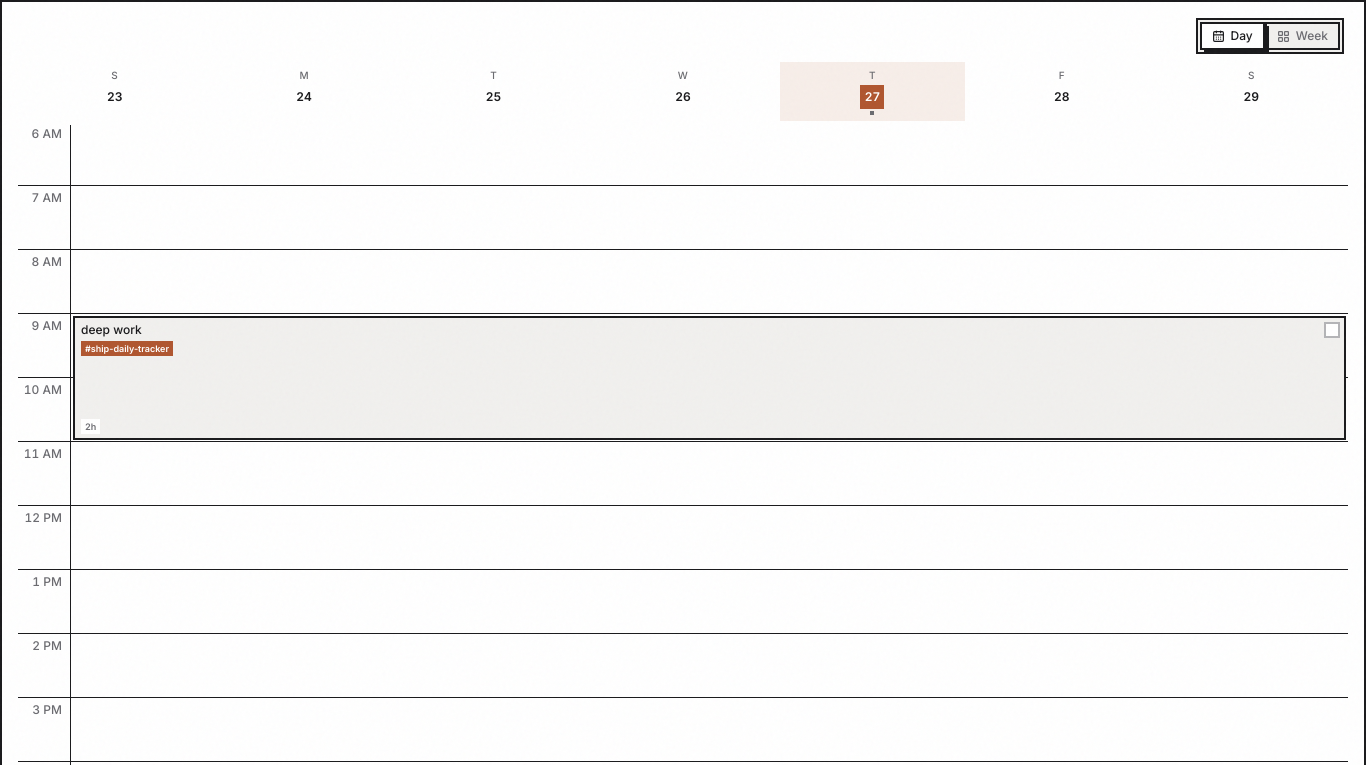
it: WeekCalendar # goal picker › opens the picker in a body portal (no clipping by scroll containers), Escape closes
The image size is (1366, 765).
# open an empty cell's editor and type the mention trigger
Click the button named "Add task THU at 12 PM". click: (710, 538)
box: [73,508,1346,567]
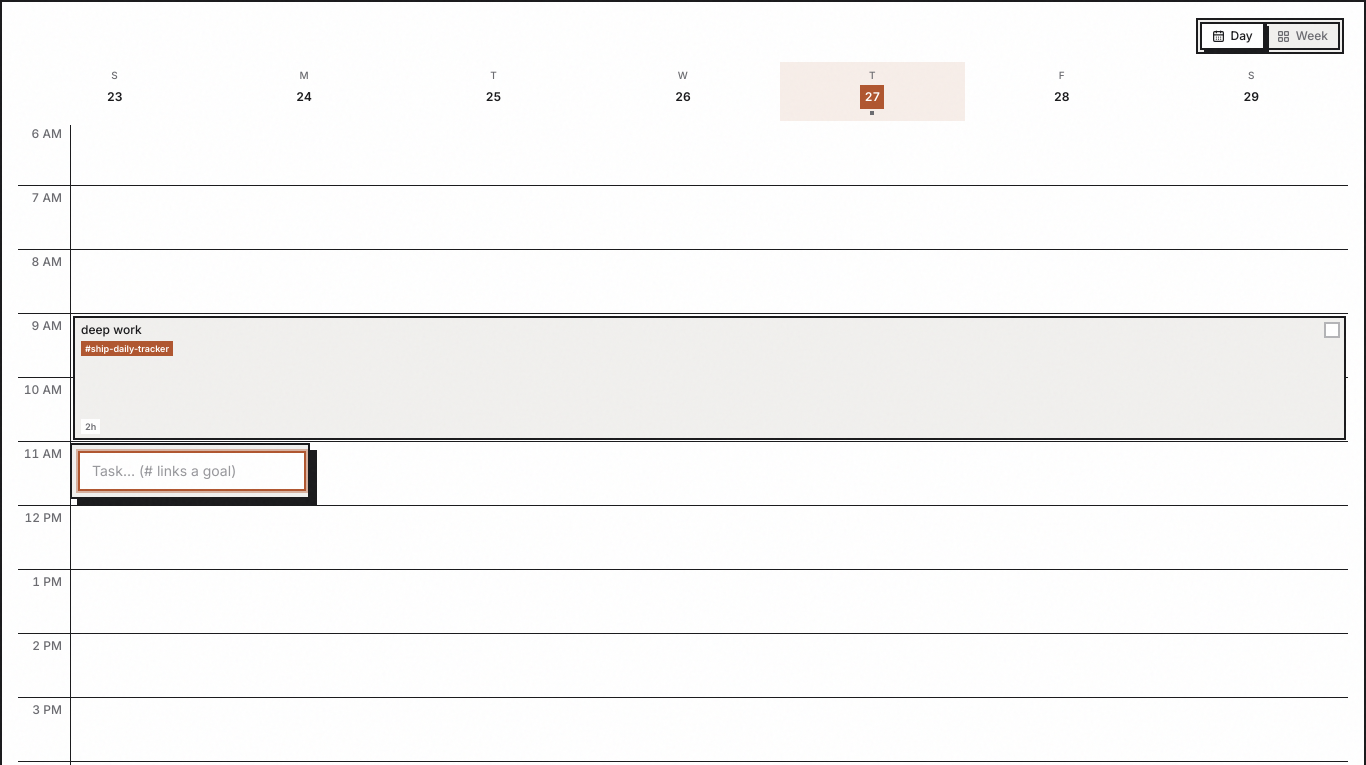
Type "#" into the dropdown. click: (192, 471)
box: [78,451,306,491]
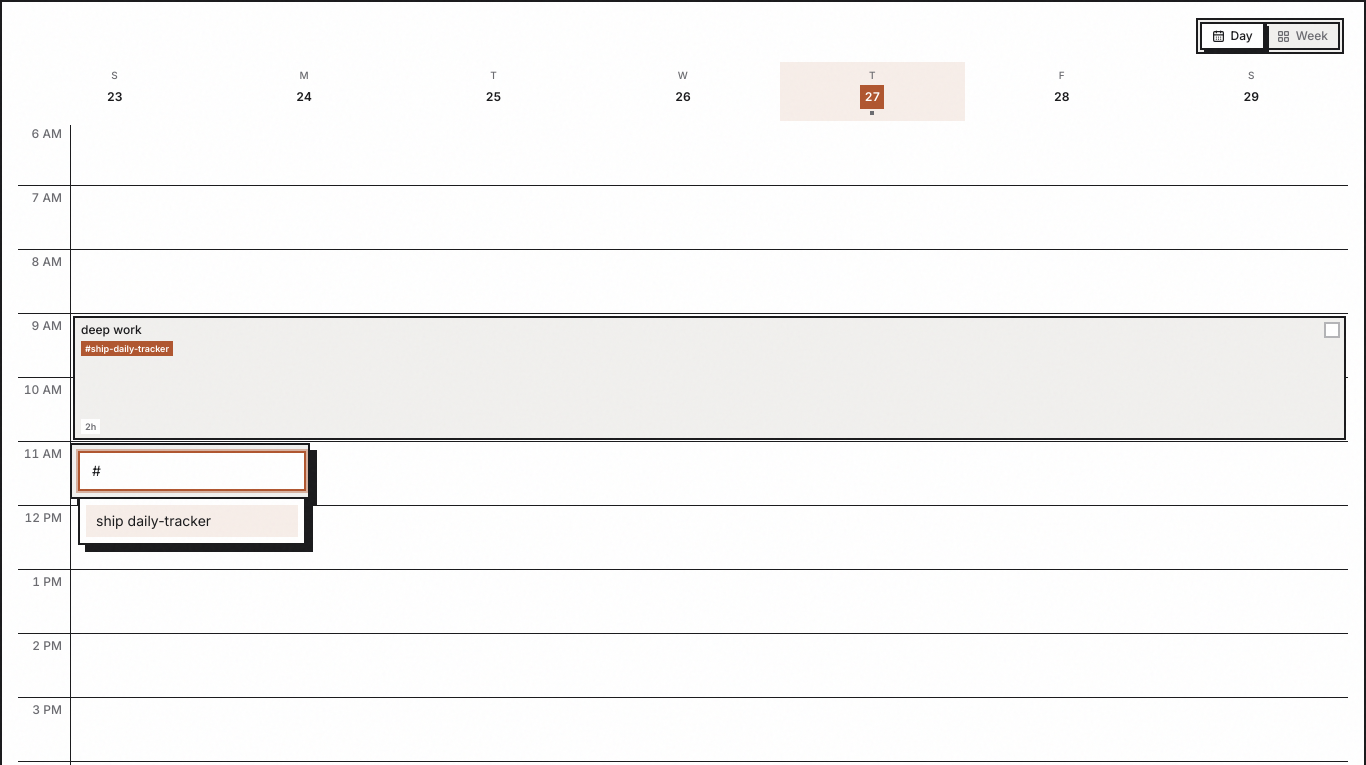
expect the list is shown: met, box [78,497,306,545]
expect the list reads "ship daily-tracker": met, box [96,512,211,529]
Press Escape in the dropdown, box [78,451,306,491]
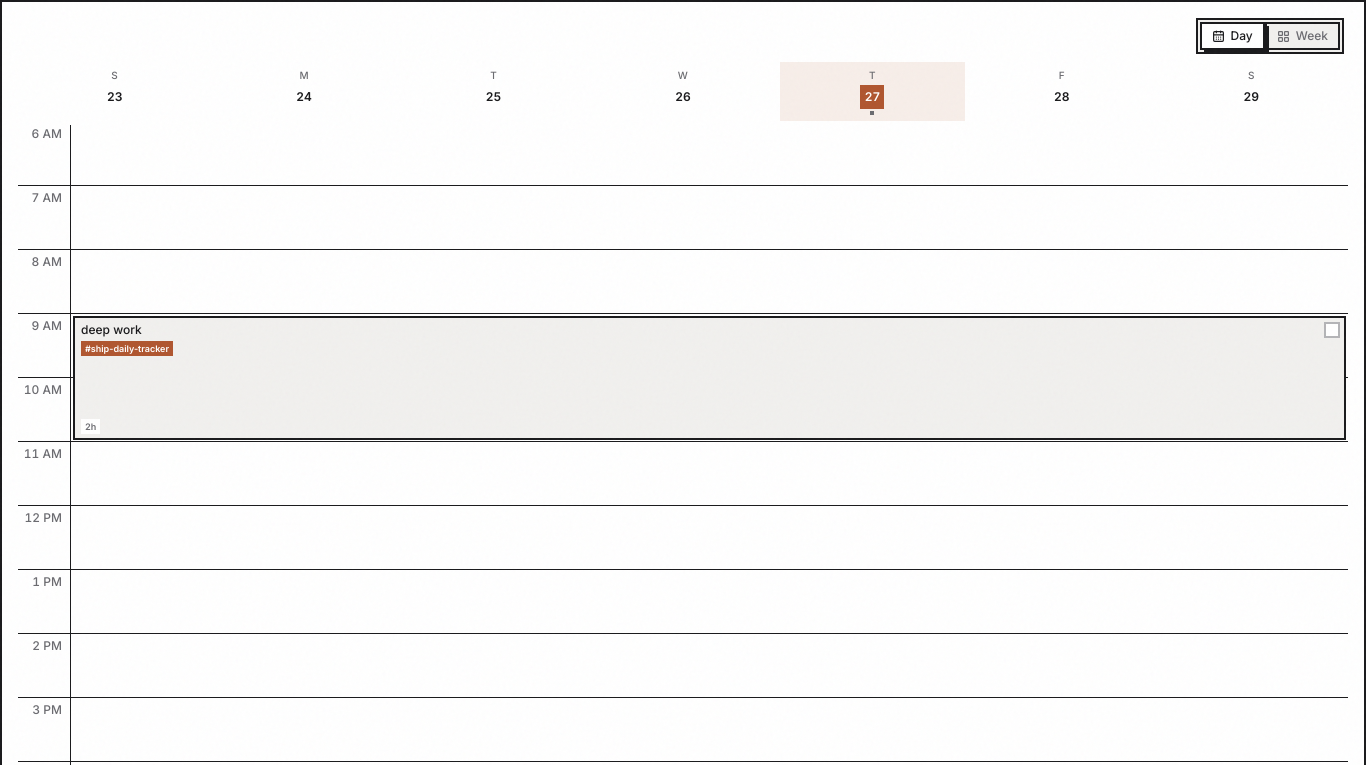
expect the list is gone: met
